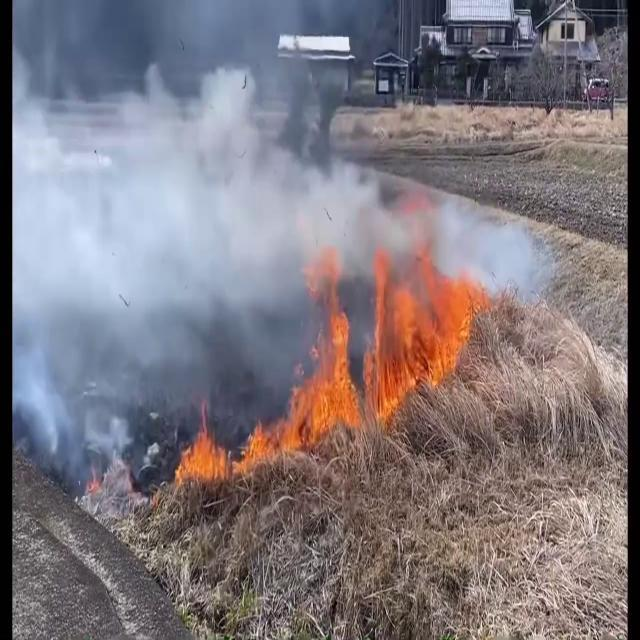Fire: (369, 241, 491, 410), (290, 251, 363, 450), (170, 407, 296, 492)
Smoke: (14, 2, 406, 486)
